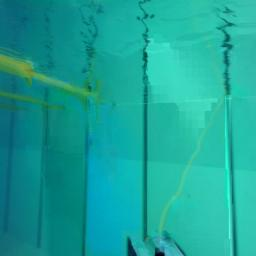Full: (126, 229, 187, 256)
